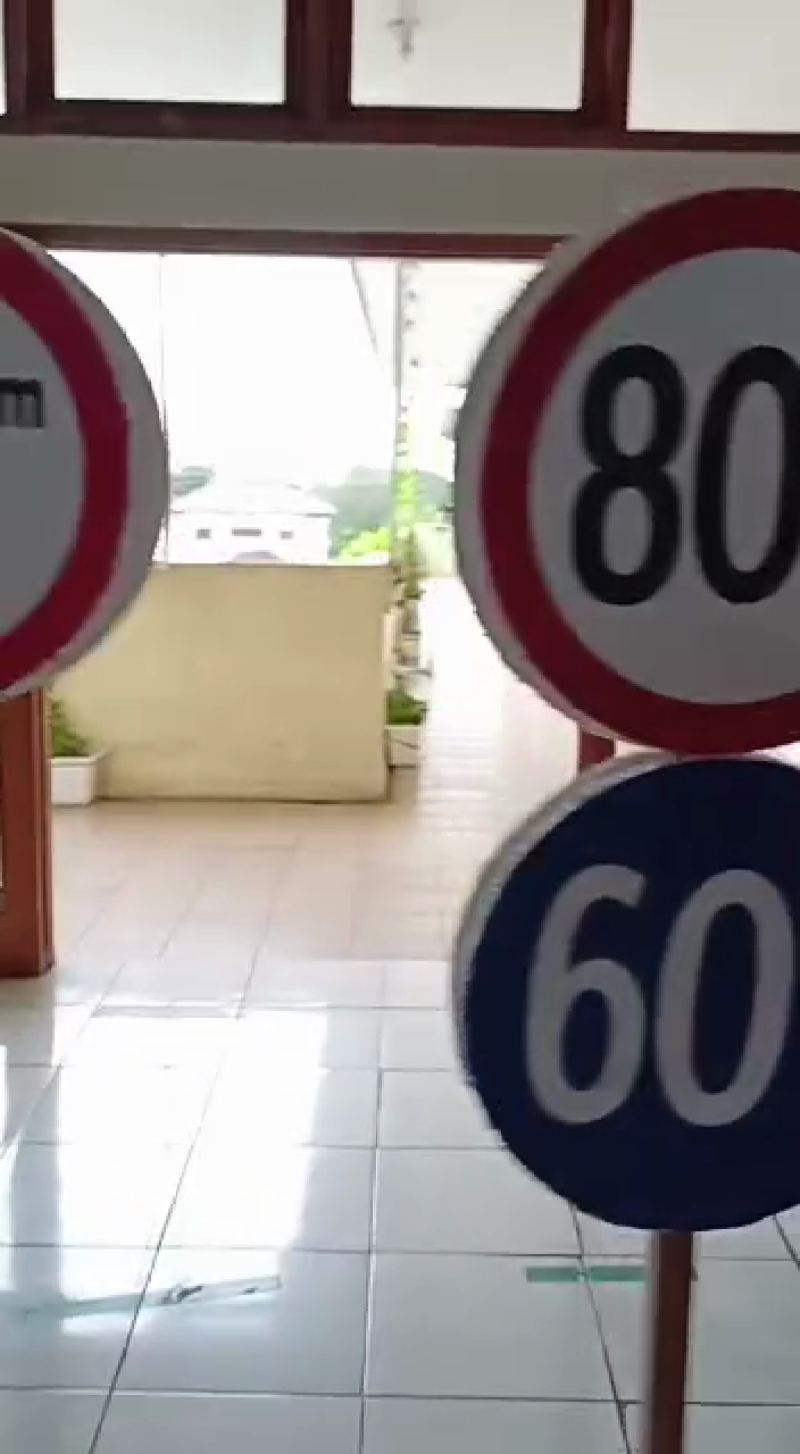batas maksimal 80kmperjam minimal 60kmperjam: (459, 159, 800, 1259)
